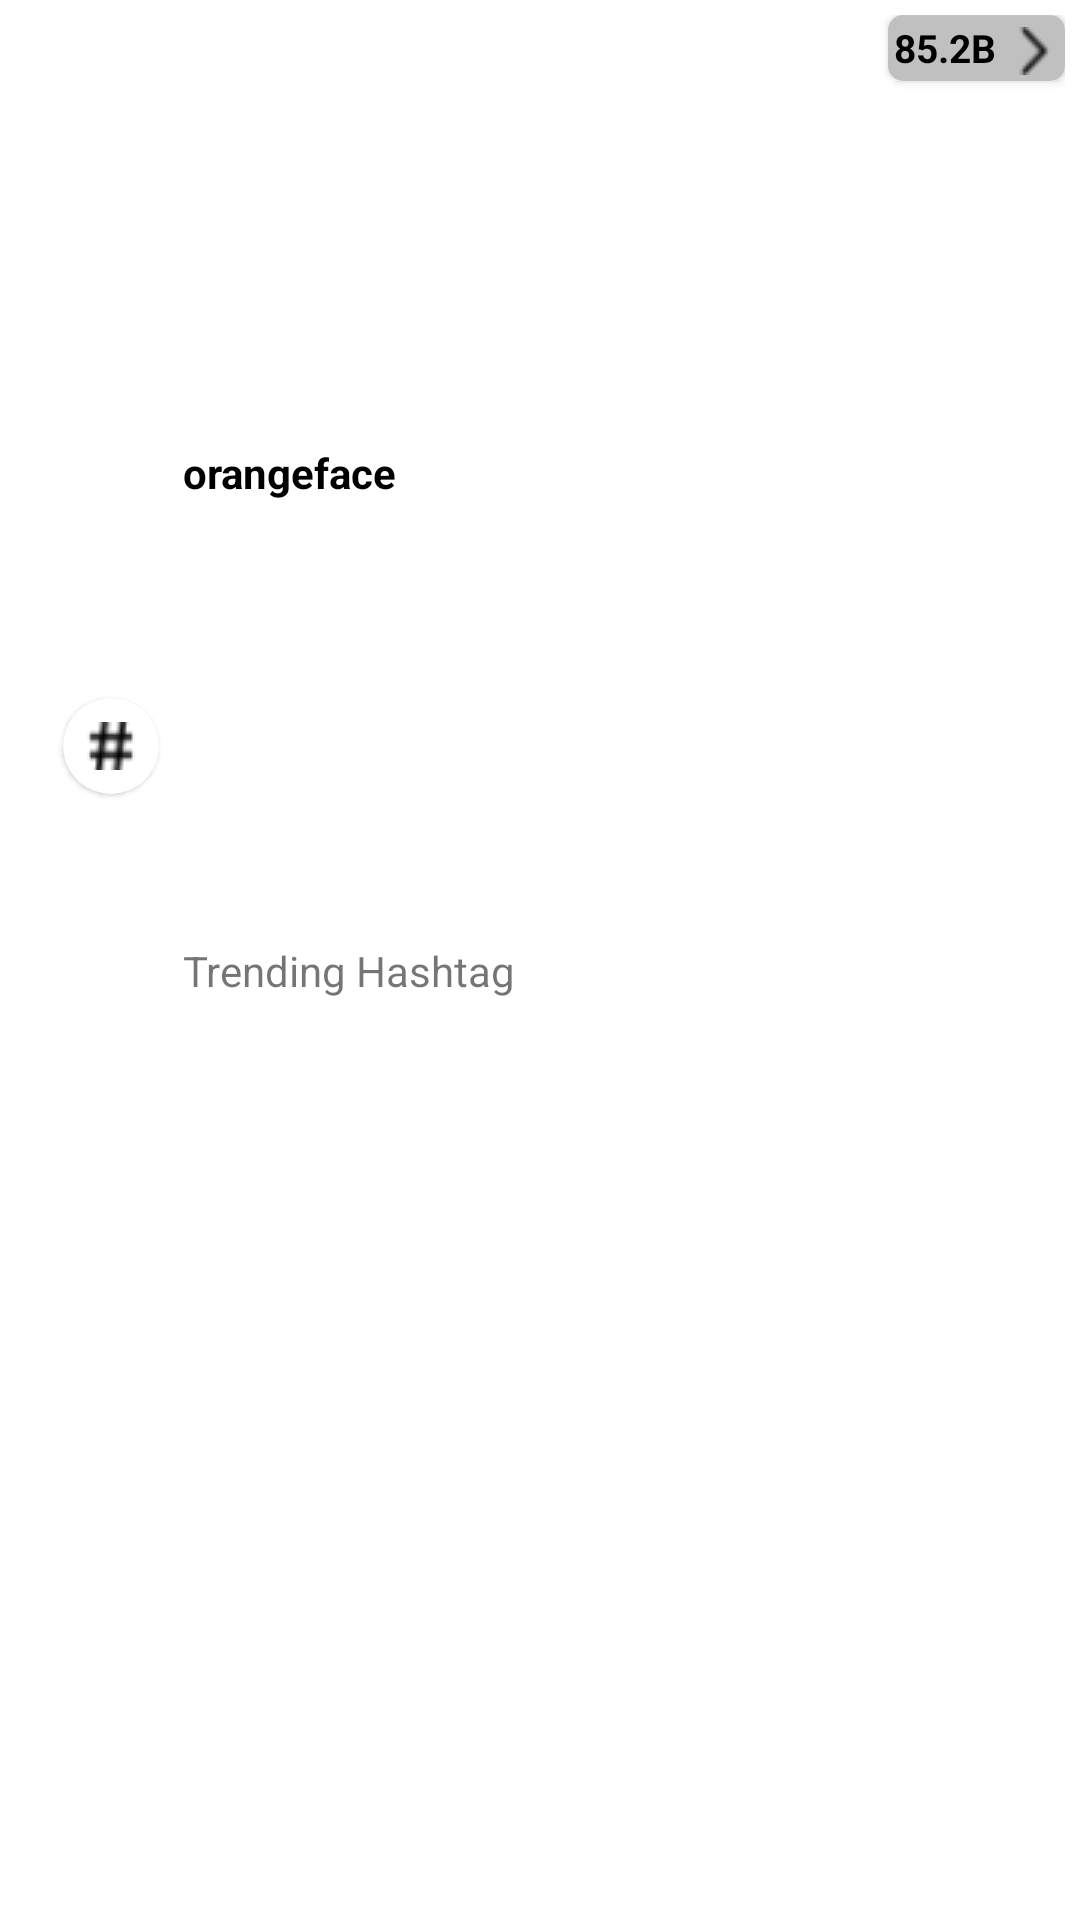

Screen size 1080w x 1920h. Icon name, then its box in pixels as (x1, y1, x2, y2):
rightone: (1021, 27, 1048, 75)
